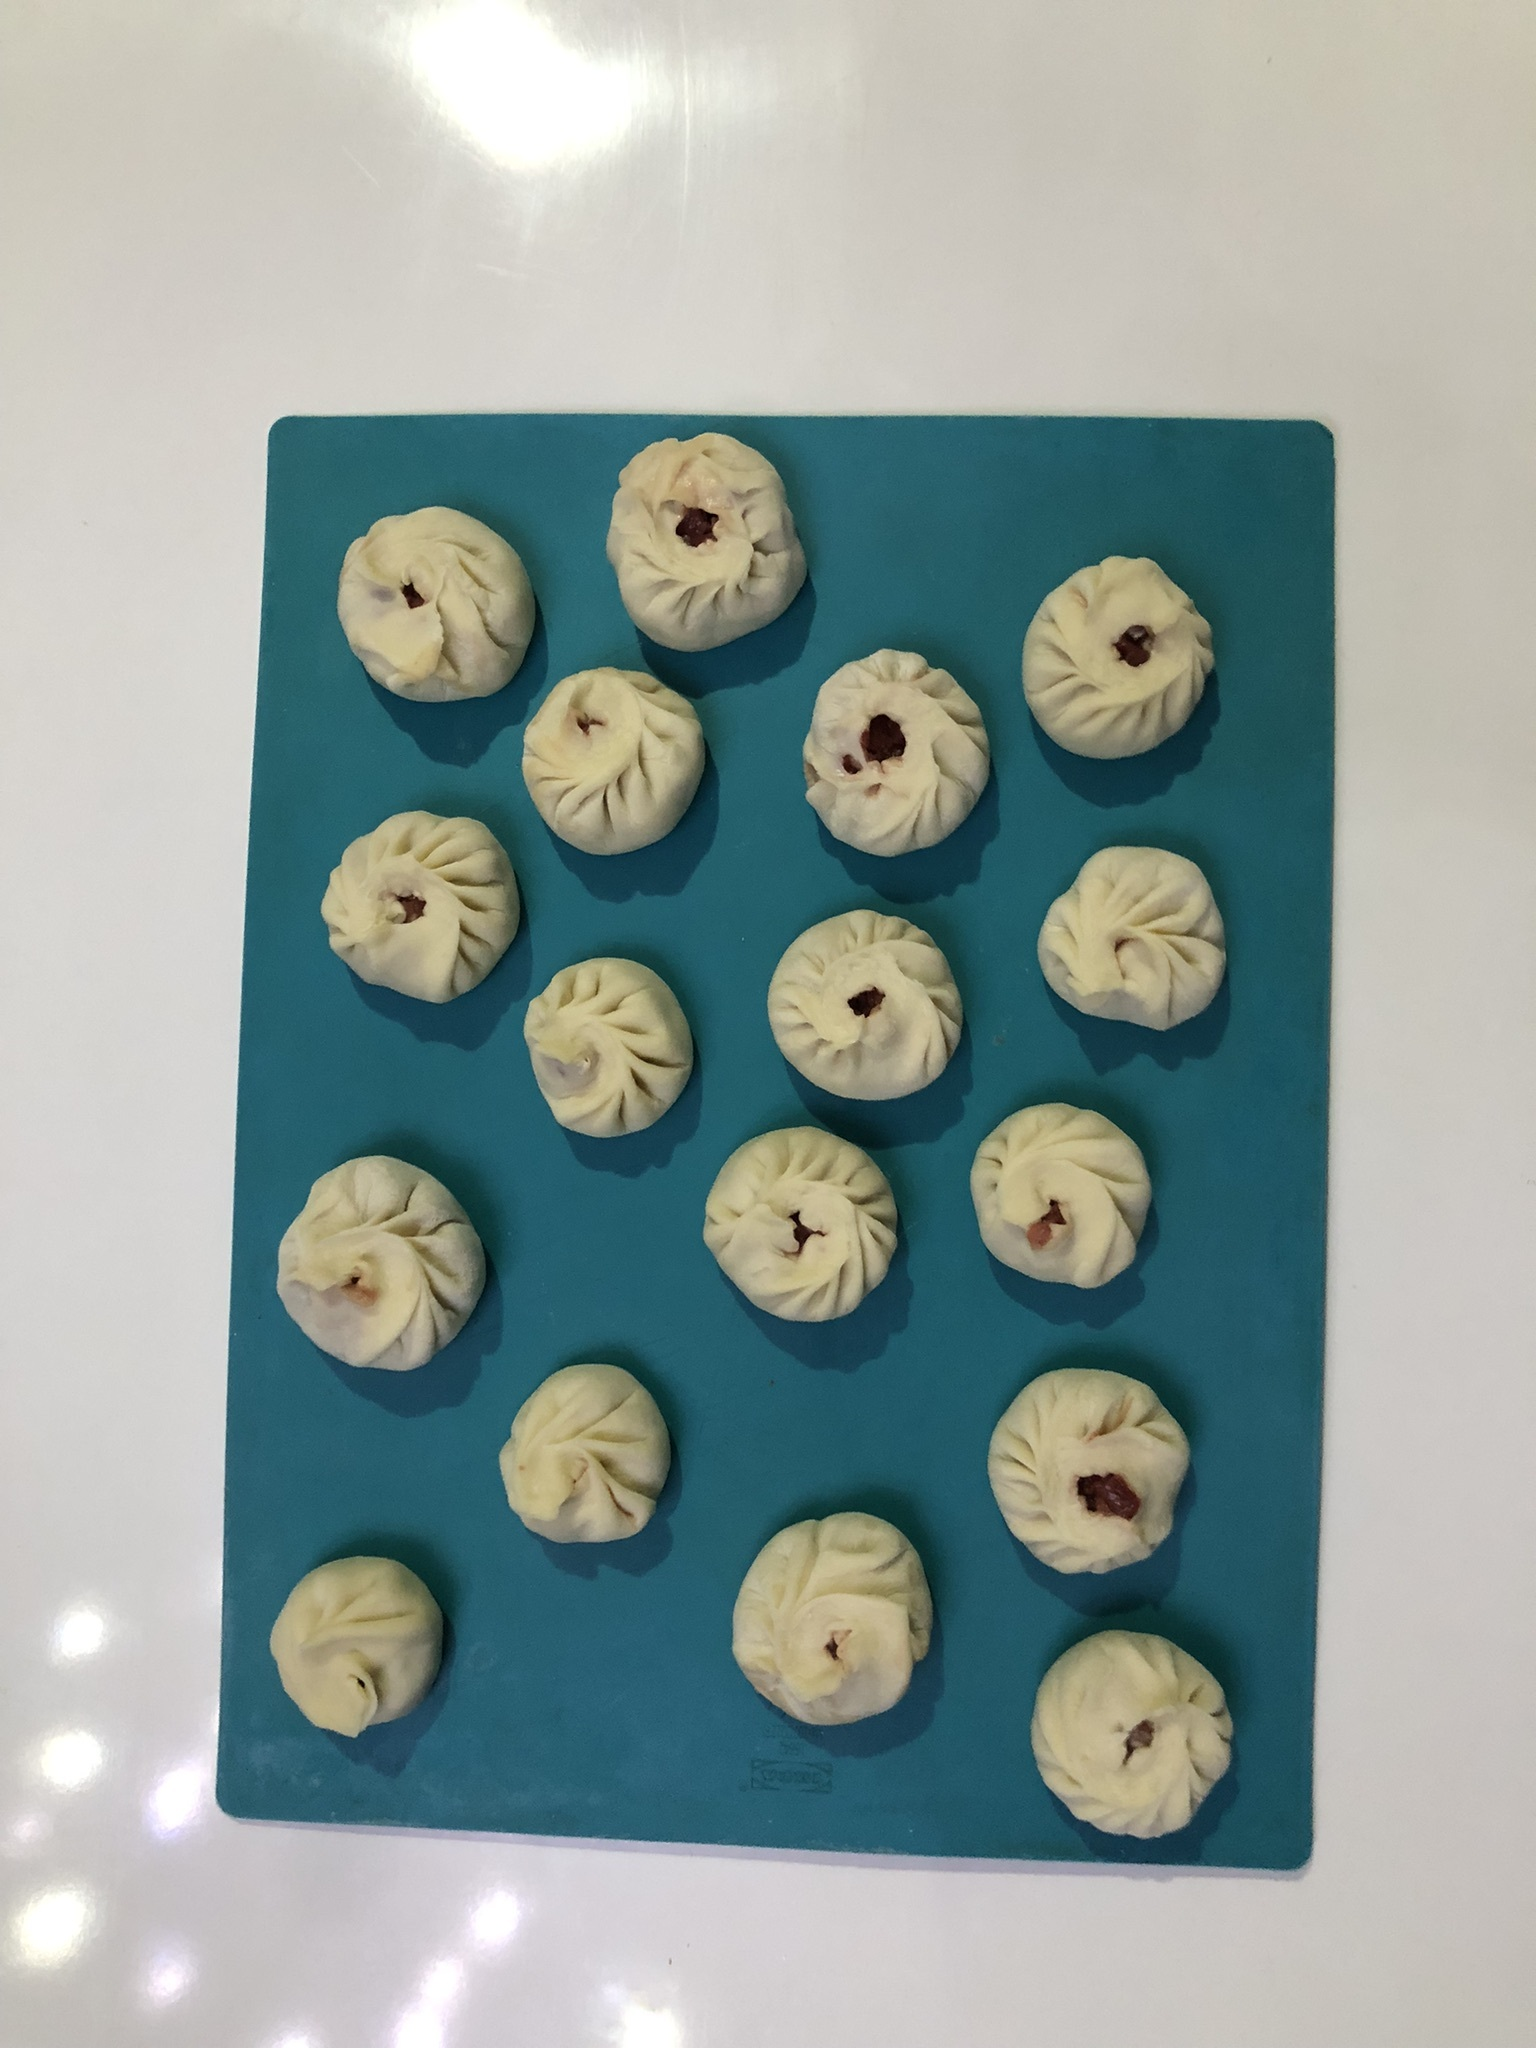buuz: (261, 1142, 497, 1387), (1020, 1613, 1254, 1858), (591, 423, 816, 663), (1008, 545, 1238, 780), (720, 1503, 945, 1742), (975, 1356, 1210, 1584), (687, 1114, 916, 1338), (799, 639, 1000, 871), (329, 497, 545, 713), (757, 903, 975, 1116), (1021, 829, 1233, 1048), (257, 1543, 468, 1761), (963, 1093, 1170, 1316), (507, 663, 723, 874), (315, 798, 526, 1009), (481, 1355, 678, 1559), (508, 951, 707, 1145)
